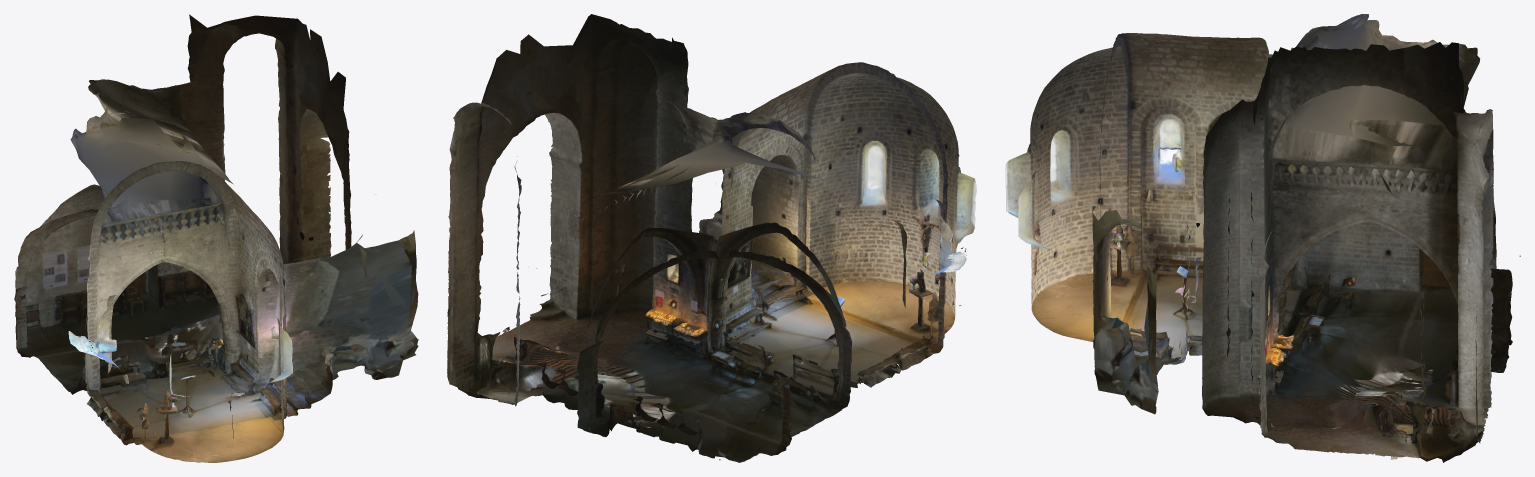
File: medium.glb
3 renders of one model, left to right at view 1: azimuth 30°, elevation 25°; view 2: azimuth 150°, elevation 25°; view 3: azimuth 270°, elevation 25°, orthographic. The views are drawn at different scales.
Visible parts, largest first — view 1: medium.012; view 2: medium.012; view 3: medium.012.
Boxes of the visible parts, <box> form: medium.012: <box>14,14,418,462</box>; medium.012: <box>447,14,976,462</box>; medium.012: <box>1005,14,1520,462</box>.
Bounding box in the file's own units: 12.55 × 10.58 × 13.12.
Materials: 1 (1 with a texture image).
